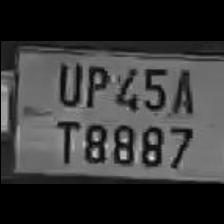4: (111, 61, 139, 111)
5: (139, 61, 167, 111)
7: (164, 121, 194, 169)
8: (136, 119, 164, 167), (107, 119, 135, 166), (79, 118, 107, 162)
A: (167, 62, 195, 116)
P: (81, 59, 109, 109)
T: (50, 115, 78, 163)
U: (52, 56, 82, 106)
